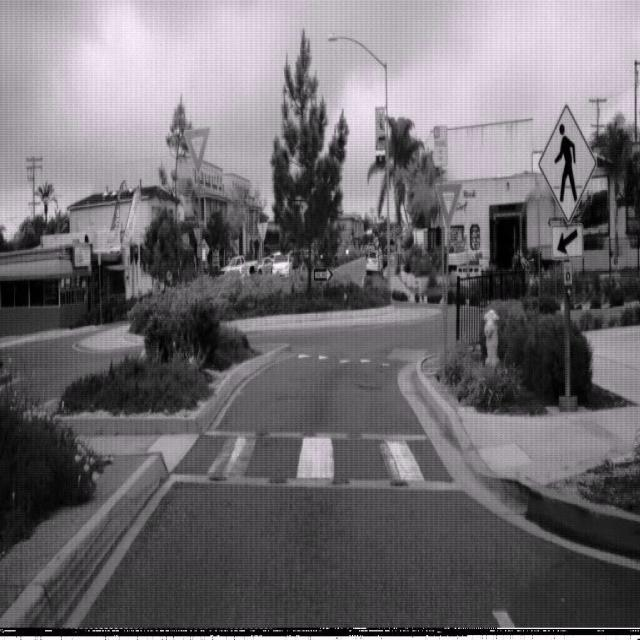pedestrianCrossing: (537, 102, 597, 226)
yield: (435, 180, 463, 231), (182, 125, 210, 174)
